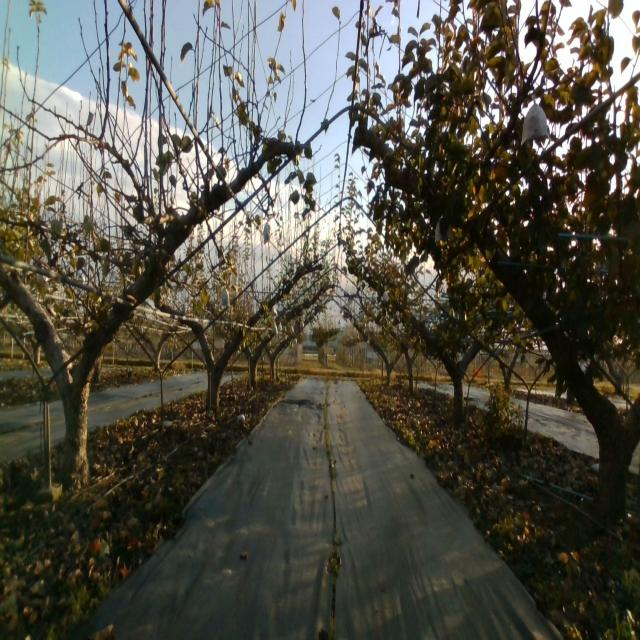pearbags: (519, 94, 551, 145), (219, 285, 230, 309)
